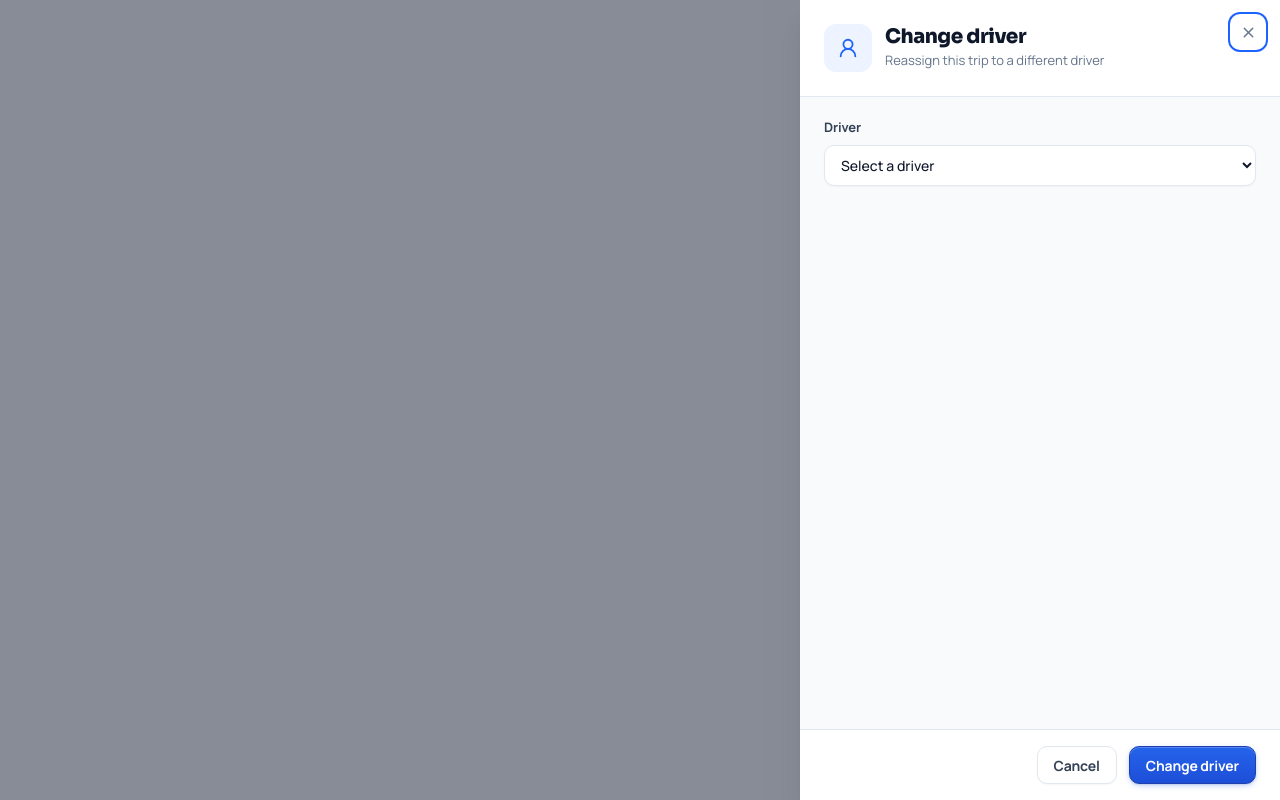
Test: ChangeTripDriverForm › shows a validation error and does not submit when no driver is selected
The image size is (1280, 800).
Expected: the dropdown labelled "Driver" is shown, x1=824 y1=145 x2=1256 y2=186
Step 1. Click the button "Change driver" → point(1192, 765), box x1=1129 y1=746 x2=1256 y2=784
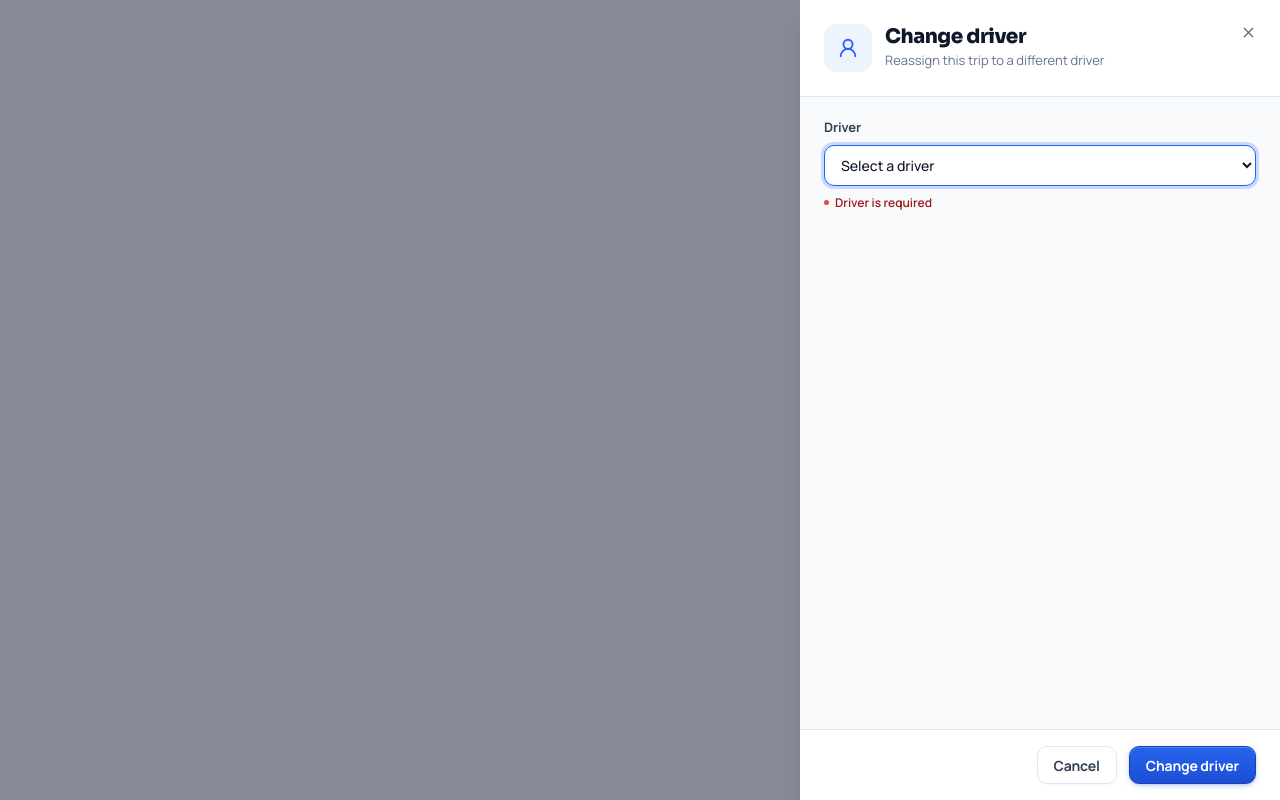
Expected: the text "Driver is required" is shown, x1=835 y1=194 x2=932 y2=211
